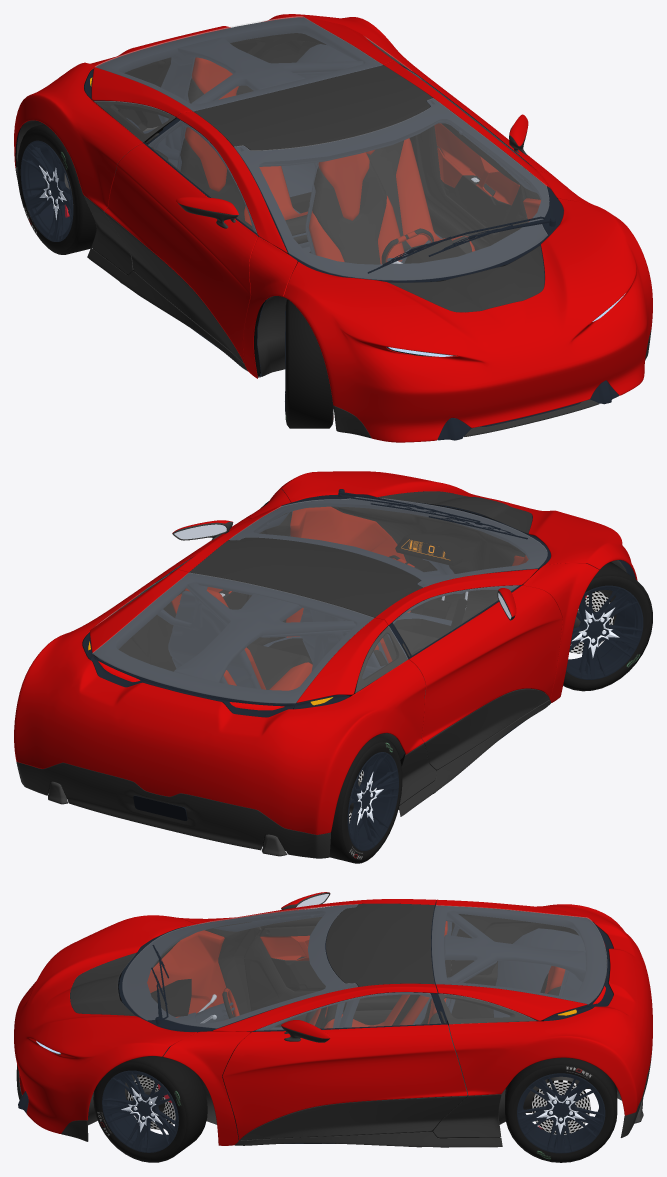
Rendered from CarConcept.gltf.
3 views of the same model, one above another, from view 1: azimuth 30°, elevation 25°; view 2: azimuth 150°, elevation 25°; view 3: azimuth 270°, elevation 25° (orthographic). The views are drawn at different scales.
Visible parts, largest first — view 1: BodyHood, BodyWindshield, BodyRearwindow, BodyDoorRColor1, BodyRearPanelsColor1, BodyRoofPanel, BodyWindshieldGasket, InteriorSeatsColor1, InteriorSeatsColor2, BodyPillars, InteriorPillar, InteriorRearHatch (+21 smaller); view 2: BodyRearPanelsColor1, BodyRearwindow, BodyWindshield, BodyDoorRColor1, BodyPanelsColor2, BodyRoofPanel, BodyHood, InteriorRearHatch, BodyPillars, InteriorPillar, BodyWindshieldGasket, InteriorDashMid (+22 smaller); view 3: BodyRearPanelsColor1, BodyWindshield, BodyDoorLColor1, BodyHood, BodyRearwindow, BodyRoofPanel, BodyPillars, BodyWindshieldGasket, BodyDoorLColor2, BodyPanelsColor2, WheelFrontL, InteriorRearHatch (+25 smaller).
Part boxes in pixels (x1=…): BodyHood: x1=283, y1=198, x2=652, y2=442; BodyWindshield: x1=234, y1=98, x2=549, y2=280; BodyRearwindow: x1=95, y1=16, x2=382, y2=110; BodyDoorRColor1: x1=104, y1=143, x2=257, y2=362; BodyRearPanelsColor1: x1=14, y1=14, x2=428, y2=210; BodyRoofPanel: x1=193, y1=65, x2=432, y2=150; BodyWindshieldGasket: x1=234, y1=99, x2=563, y2=282; InteriorSeatsColor1: x1=185, y1=57, x2=475, y2=264; InteriorSeatsColor2: x1=180, y1=78, x2=472, y2=264; BodyPillars: x1=176, y1=61, x2=598, y2=378; InteriorPillar: x1=158, y1=37, x2=434, y2=168; InteriorRearHatch: x1=93, y1=17, x2=383, y2=117; BodyRearPanelsColor1: x1=14, y1=569, x2=425, y2=834; BodyRearwindow: x1=92, y1=573, x2=373, y2=703; BodyWindshield: x1=229, y1=497, x2=547, y2=587; BodyDoorRColor1: x1=409, y1=585, x2=562, y2=742; BodyPanelsColor2: x1=16, y1=700, x2=550, y2=858; BodyRoofPanel: x1=189, y1=537, x2=422, y2=617; BodyHood: x1=279, y1=471, x2=637, y2=580; InteriorRearHatch: x1=93, y1=573, x2=386, y2=707; BodyPillars: x1=175, y1=489, x2=599, y2=702; InteriorPillar: x1=174, y1=574, x2=417, y2=682; BodyWindshieldGasket: x1=230, y1=497, x2=550, y2=587; InteriorDashMid: x1=331, y1=503, x2=528, y2=622; BodyRearPanelsColor1: x1=436, y1=899, x2=652, y2=1115; BodyWindshield: x1=122, y1=904, x2=357, y2=1028; BodyDoorLColor1: x1=222, y1=1024, x2=467, y2=1139; BodyHood: x1=14, y1=915, x2=196, y2=1133; BodyRearwindow: x1=432, y1=905, x2=606, y2=1003; BodyRoofPanel: x1=326, y1=903, x2=434, y2=986; BodyPillars: x1=163, y1=899, x2=437, y2=1145; BodyWindshieldGasket: x1=118, y1=905, x2=357, y2=1032; BodyDoorLColor2: x1=240, y1=1096, x2=467, y2=1140; BodyPanelsColor2: x1=16, y1=1050, x2=652, y2=1147; WheelFrontL: x1=93, y1=1054, x2=207, y2=1162; InteriorRearHatch: x1=431, y1=905, x2=606, y2=1020.
Bounding box in the file's own units: 2.54 × 1.15 × 4.36.
Materials: 23 (6 with a texture image).
